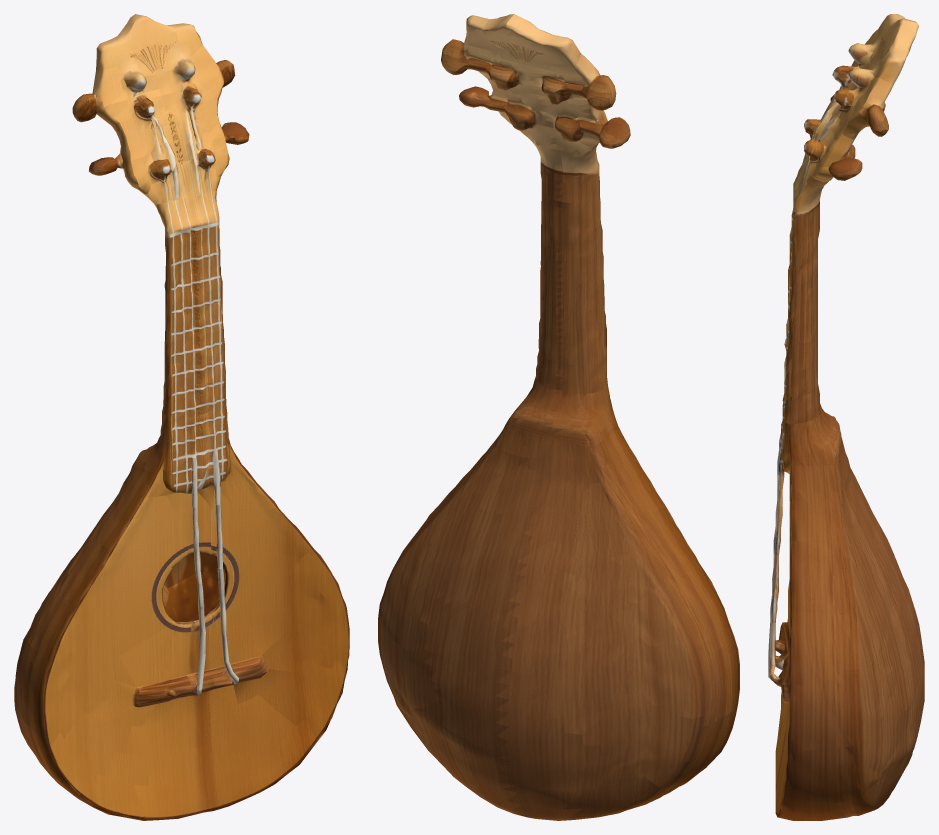
File: s1_quality_dombra.glb
The picture shows the model from 3 angles, left to right: view 1: azimuth 30°, elevation 25°; view 2: azimuth 150°, elevation 25°; view 3: azimuth 270°, elevation 25°; orthographic projection. The views are drawn at different scales.
Bounding box in the file's own units: 0.8102 × 1.91 × 0.3444.
1 material, 1 textured.
